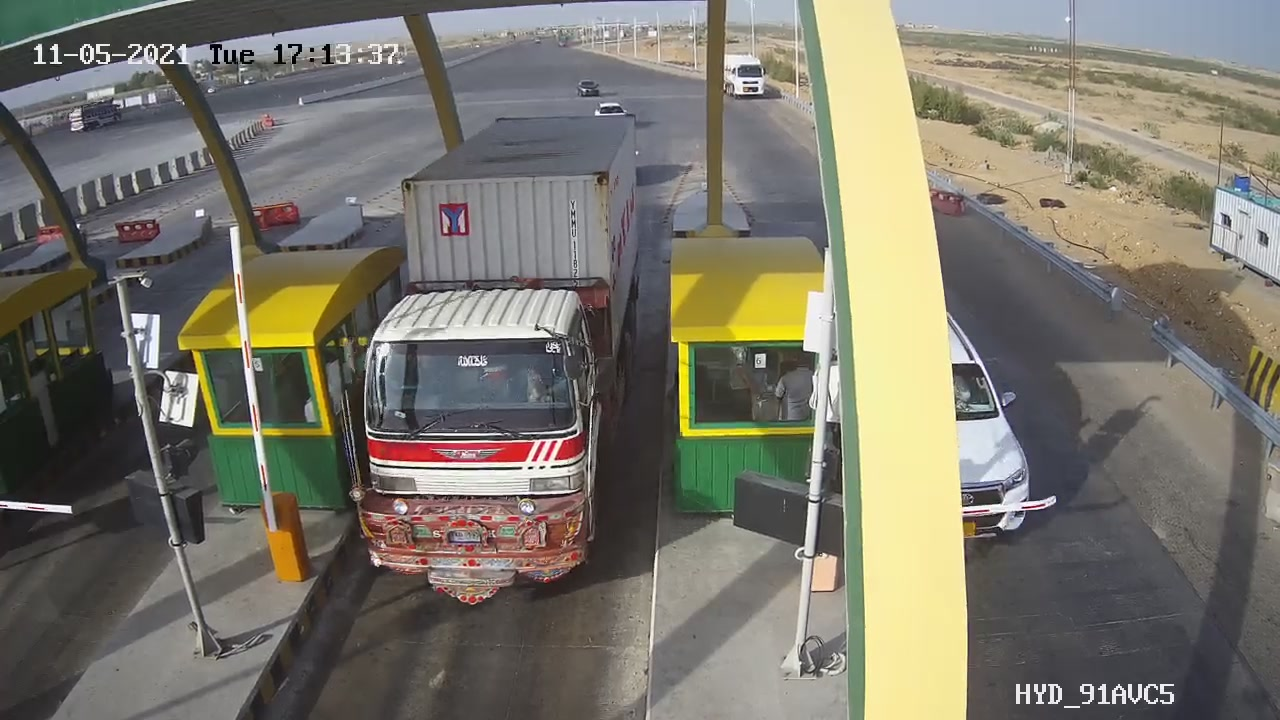F6: (309, 105, 663, 611)
